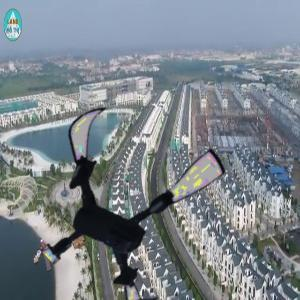drone: (31, 103, 228, 300)
